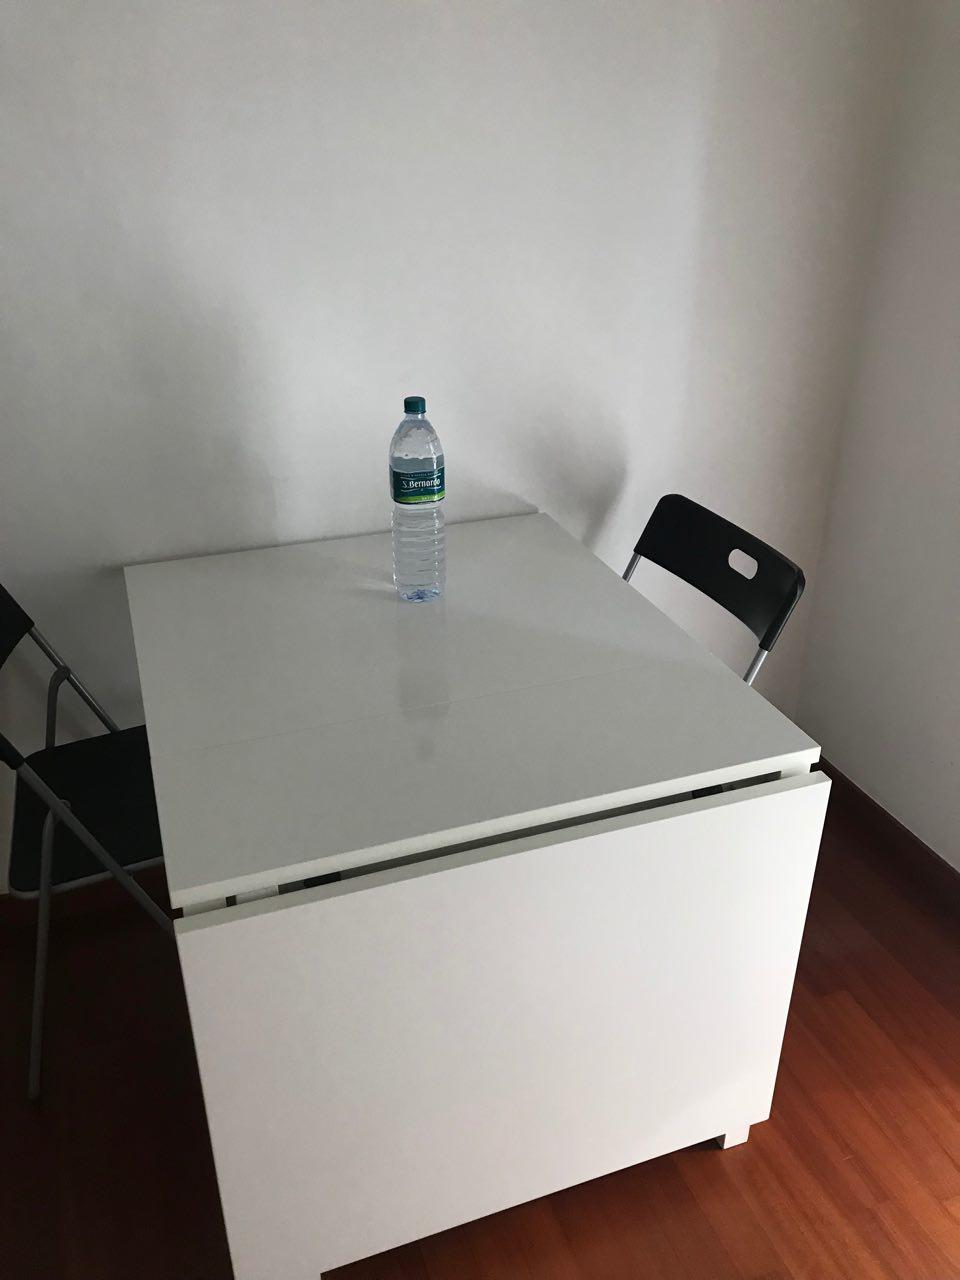san_bernardo: (388, 395, 445, 603)
